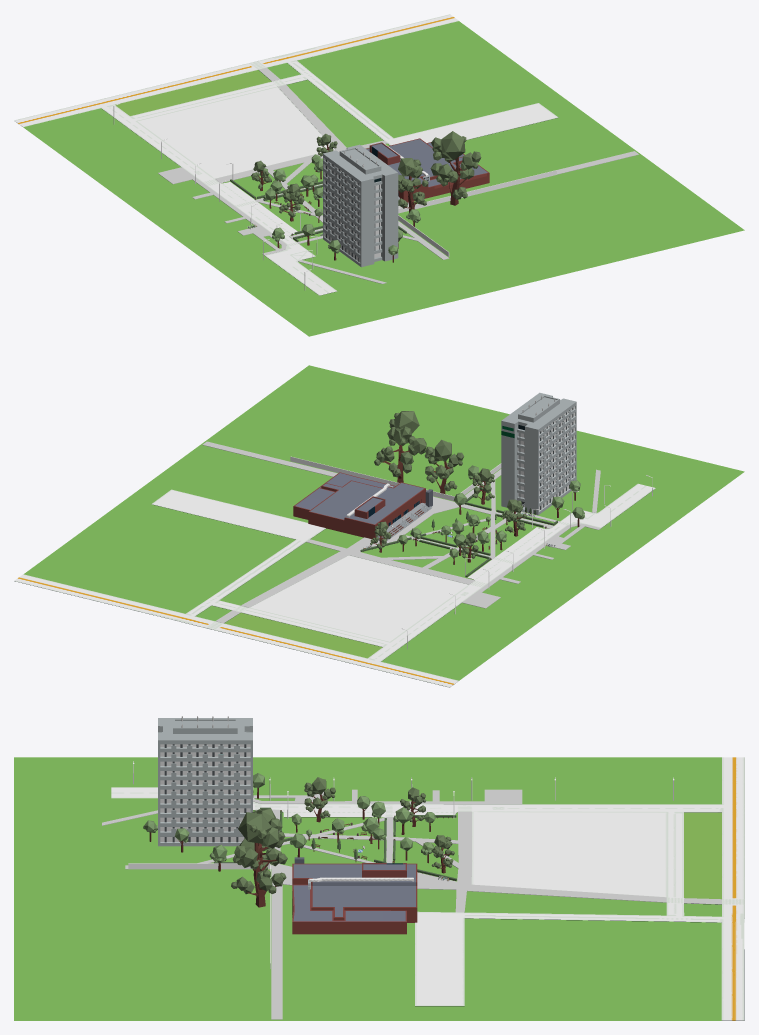
Rendered from MS_AGH 1.fbx.
The picture shows the model from 3 angles, top to bottom: view 1: azimuth 30°, elevation 25°; view 2: azimuth 150°, elevation 25°; view 3: azimuth 270°, elevation 25°; orthographic projection. The views are drawn at different scales.
Visible parts, largest first — view 1: Grass, RoadDecal, Kapitol, RoadLayout, KlubStudio, BigTree.01, BigTree, Fence, BigTree.05; view 2: Grass, RoadDecal, Kapitol, RoadLayout, KlubStudio, BigTree.01, BigTree, Fence, BigTree.04; view 3: Grass, RoadDecal, Kapitol, RoadLayout, KlubStudio, BigTree.01, Fence.001, BigTree.05, BigTree.03, BigTree.002.
Part boxes in pixels (<box>): Grass: <box>23,21,744,336</box>; RoadDecal: <box>14,14,558,295</box>; Kapitol: <box>323,144,398,267</box>; RoadLayout: <box>16,63,638,295</box>; KlubStudio: <box>366,138,489,202</box>; BigTree.01: <box>430,131,481,205</box>; BigTree: <box>398,158,428,211</box>; Fence: <box>398,170,556,213</box>; BigTree.05: <box>279,183,304,221</box>; Grass: <box>24,365,744,680</box>; RoadDecal: <box>14,483,655,687</box>; Kapitol: <box>501,392,576,515</box>; RoadLayout: <box>14,441,651,687</box>; KlubStudio: <box>293,472,432,540</box>; BigTree.01: <box>374,411,426,482</box>; BigTree: <box>424,439,463,493</box>; Fence: <box>290,456,454,500</box>; BigTree.04: <box>472,468,494,504</box>; Grass: <box>14,757,721,1020</box>; RoadDecal: <box>111,757,744,1020</box>; Kapitol: <box>158,716,252,846</box>; RoadLayout: <box>102,787,744,1020</box>; KlubStudio: <box>292,857,417,934</box>; BigTree.01: <box>231,812,287,907</box>; Fence.001: <box>128,863,269,869</box>; BigTree.05: <box>304,777,335,822</box>; BigTree.03: <box>431,835,454,873</box>; BigTree.002: <box>400,787,426,826</box>.
Size of the model in its own units: 24574 by 5259 by 28818.
